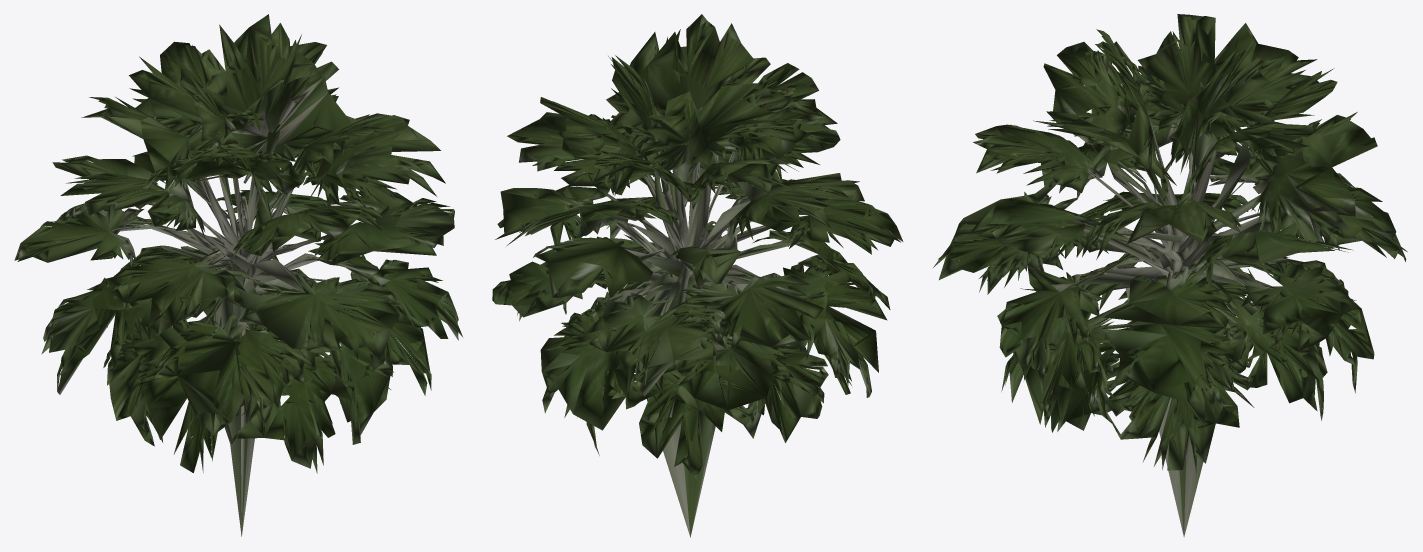
File: dust_palm_2.fbx
The picture shows the model from 3 angles, left to right: view 1: azimuth 30°, elevation 25°; view 2: azimuth 150°, elevation 25°; view 3: azimuth 270°, elevation 25°; orthographic projection. The views are drawn at different scales.
Parts seen in each view (by area): view 1: dust_palm_2.001; view 2: dust_palm_2.001; view 3: dust_palm_2.001.
Part boxes in pixels (<box>): dust_palm_2.001: <box>14,14,462,536</box>; dust_palm_2.001: <box>492,14,903,537</box>; dust_palm_2.001: <box>932,14,1407,537</box>.
Size of the model in its own units: 59038 by 64332 by 76532.
